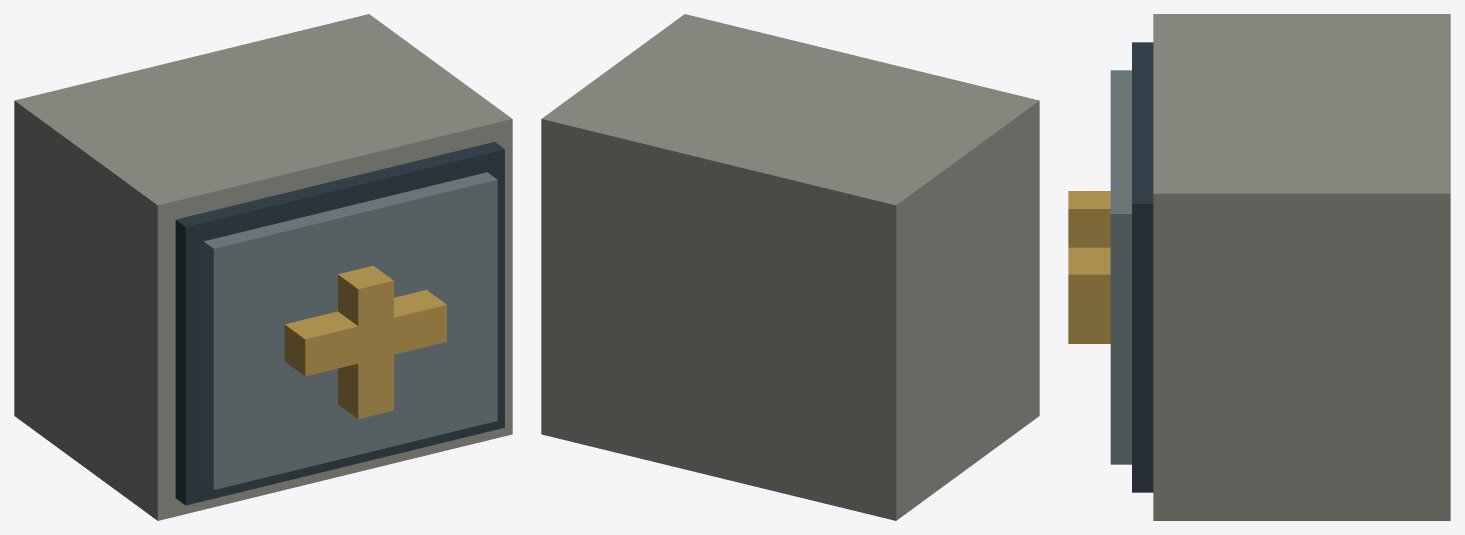
The model's file is manufacturing-11.glb.
3 views of the same model, side by side, from view 1: azimuth 30°, elevation 25°; view 2: azimuth 150°, elevation 25°; view 3: azimuth 270°, elevation 25° (orthographic). The views are drawn at different scales.
Visible parts, largest first — view 1: Tool cabinet; view 2: Tool cabinet; view 3: Tool cabinet.
Part boxes in pixels (bbox=[...]): Tool cabinet: bbox=[14, 14, 512, 520]; Tool cabinet: bbox=[541, 14, 1039, 520]; Tool cabinet: bbox=[1068, 14, 1450, 520].
Bounding box in the file's own units: 1.6 × 1.36 × 1.44.
